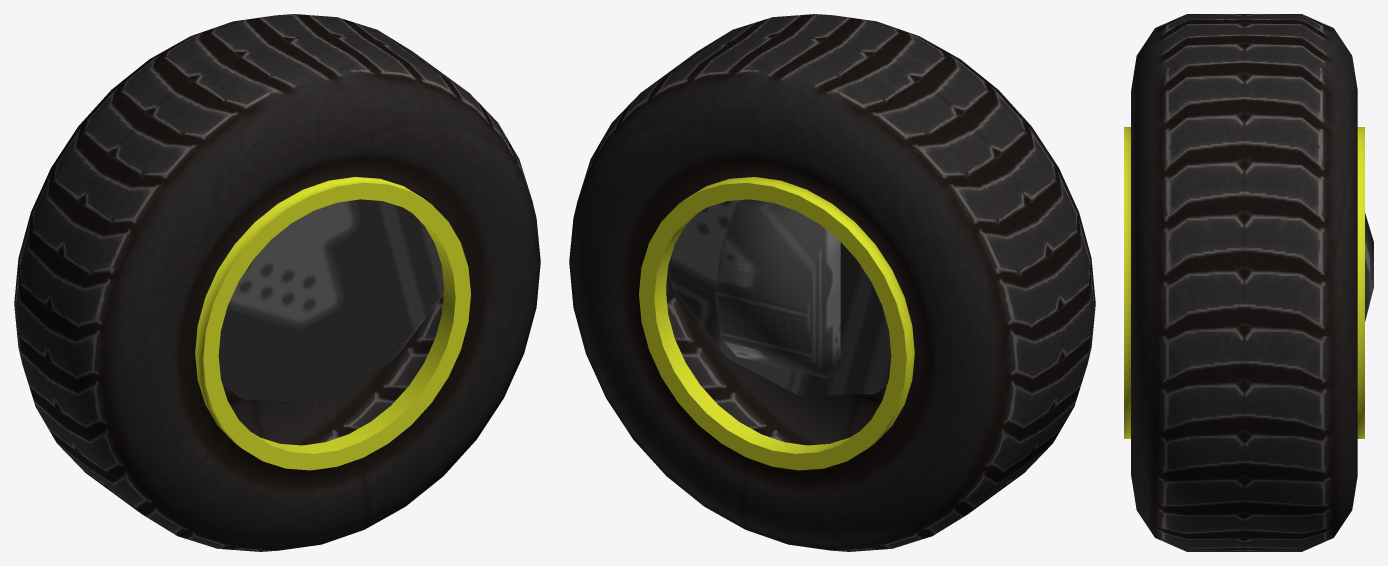
The model's file is cyberoctopus_wheel2.obj.
The picture shows the model from 3 angles, left to right: view 1: azimuth 30°, elevation 25°; view 2: azimuth 150°, elevation 25°; view 3: azimuth 270°, elevation 25°; orthographic projection.
Parts seen in each view (by area): view 1: front_wheel_low_front_wheel_low.000; view 2: front_wheel_low_front_wheel_low.000; view 3: front_wheel_low_front_wheel_low.000.
Boxes of the visible parts, x1=… form: front_wheel_low_front_wheel_low.000: x1=14, y1=14, x2=540, y2=551; front_wheel_low_front_wheel_low.000: x1=569, y1=14, x2=1095, y2=551; front_wheel_low_front_wheel_low.000: x1=1124, y1=14, x2=1373, y2=551.
Bounding box in the file's own units: 1.04 × 1.04 × 0.484.
2 materials, 2 textured.
